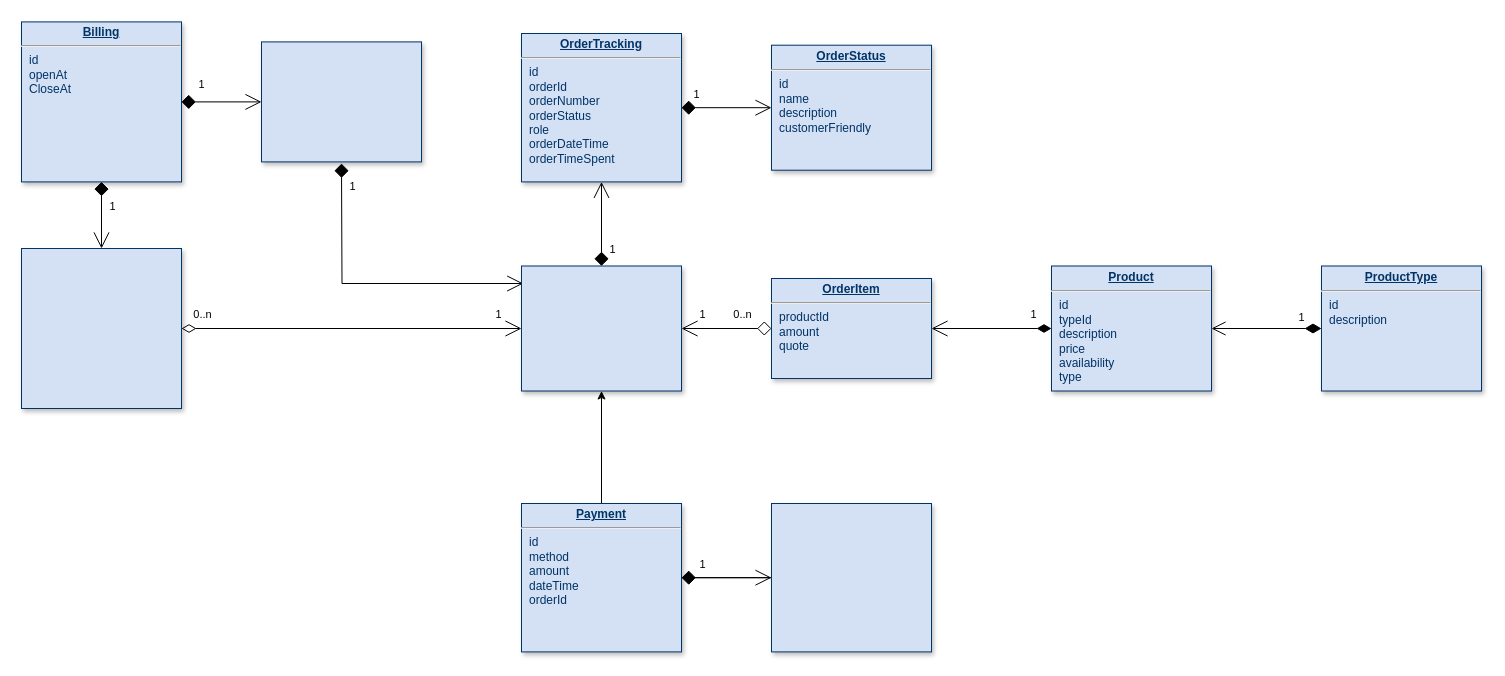
The diagram is 1505 pixels wide and 676 high, and some of its shapes have lost their labels. Here are the shapes that lost their labels. From the top down, the centre of each, then its label:
the point at 342,103: Identity type number
the point at 102,330: Customer id name identity email number
the point at 602,329: Order id customerId items createdAt number payment
the point at 852,578: PaymentStatus id paymentId description
